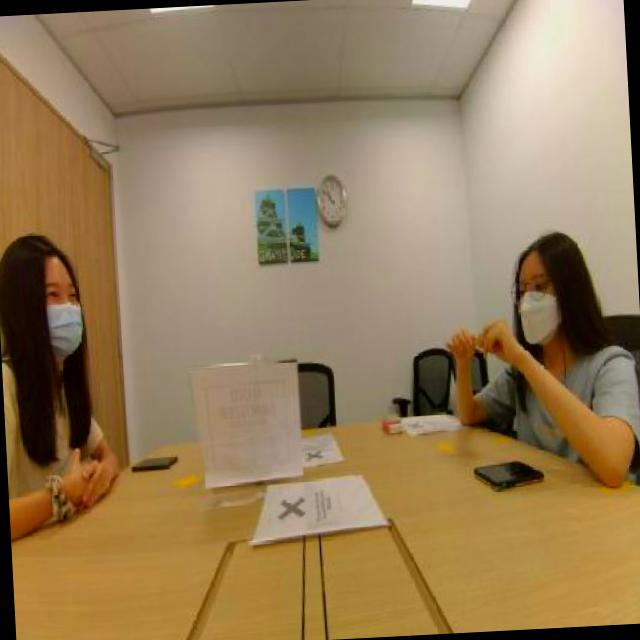Person: (443, 197, 640, 448), (0, 191, 119, 505)
